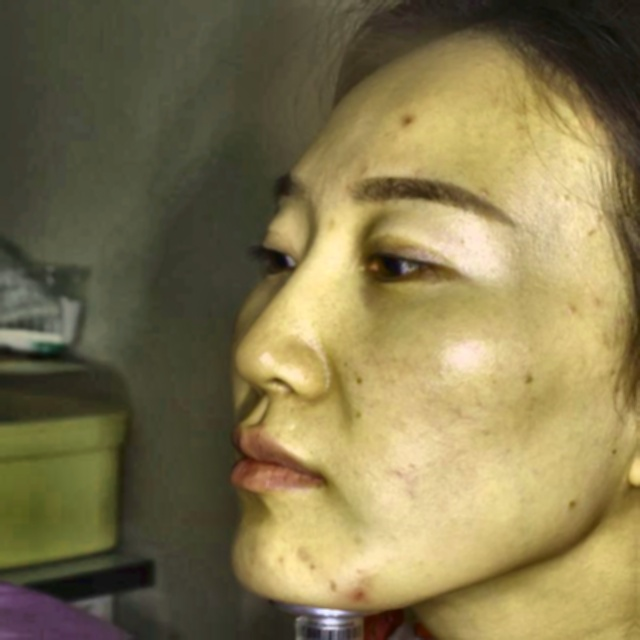comedone: (340, 577, 378, 608), (386, 111, 422, 131)
